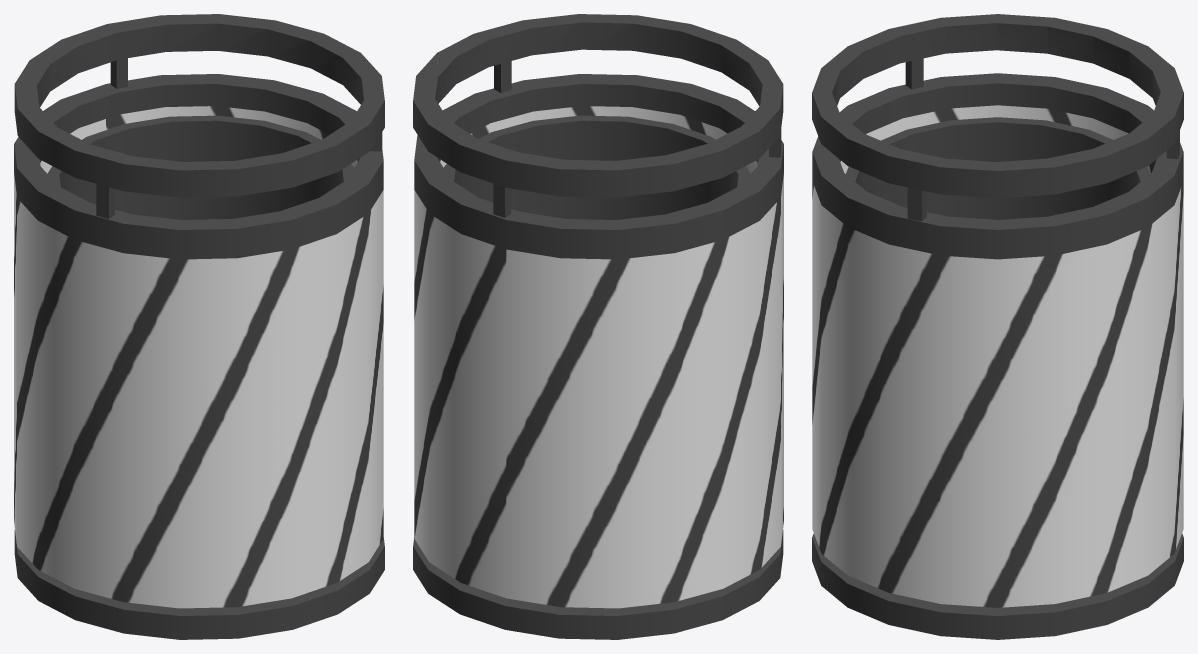
Rendered from 垃圾桶02.fbx.
The picture shows the model from 3 angles, left to right: view 1: azimuth 30°, elevation 25°; view 2: azimuth 150°, elevation 25°; view 3: azimuth 270°, elevation 25°; orthographic projection.
Visible parts, largest first — view 1: pCylinder7; view 2: pCylinder7; view 3: pCylinder7.
Part boxes in pixels (x1,y1,x2,y2): pCylinder7: [14, 14, 384, 639]; pCylinder7: [413, 14, 783, 639]; pCylinder7: [812, 14, 1183, 639].
Size of the model in its own units: 2.96 by 4.21 by 2.95.
